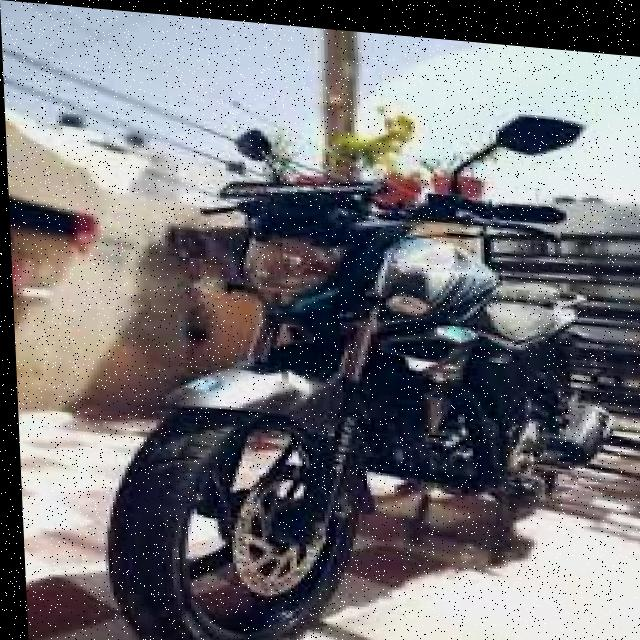bike: (62, 127, 640, 640)
